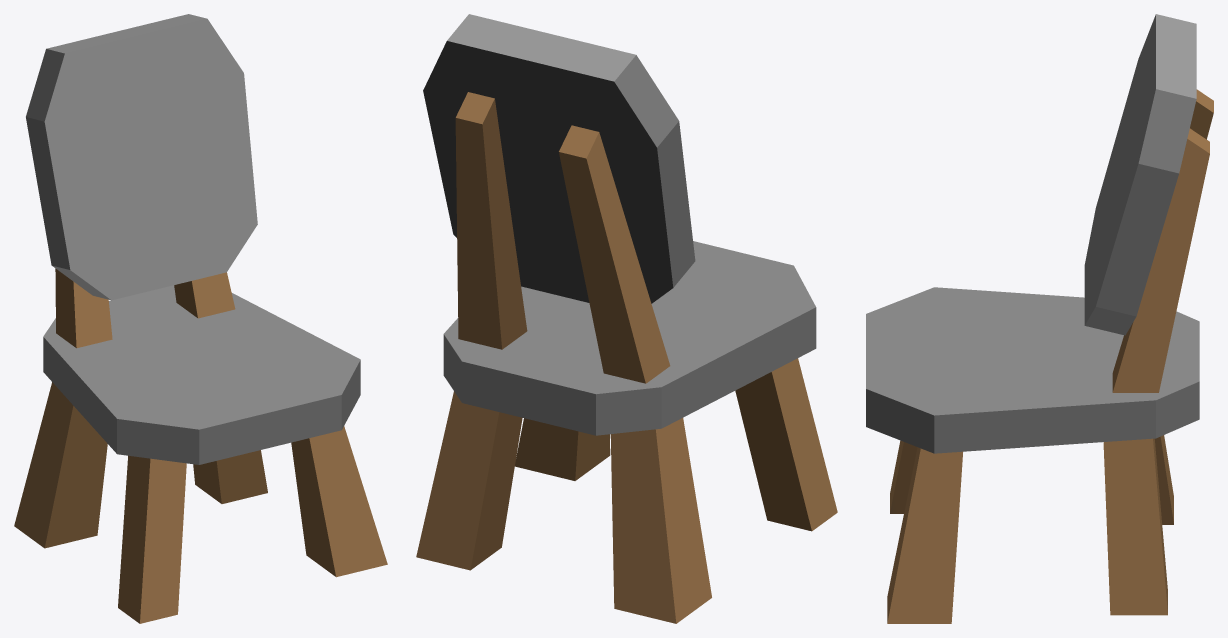
File: Chair_A2.fbx
3 renders of one model, left to right at view 1: azimuth 30°, elevation 25°; view 2: azimuth 150°, elevation 25°; view 3: azimuth 270°, elevation 25°, orthographic. The views are drawn at different scales.
Visible parts, largest first — view 1: Chair_A2; view 2: Chair_A2; view 3: Chair_A2.
Boxes of the visible parts, left/top/right/bottom form: Chair_A2: left=14, top=14, right=387, bottom=623; Chair_A2: left=416, top=14, right=837, bottom=623; Chair_A2: left=866, top=14, right=1213, bottom=623.
Size of the model in its own units: 64.14 by 115 by 71.88.
